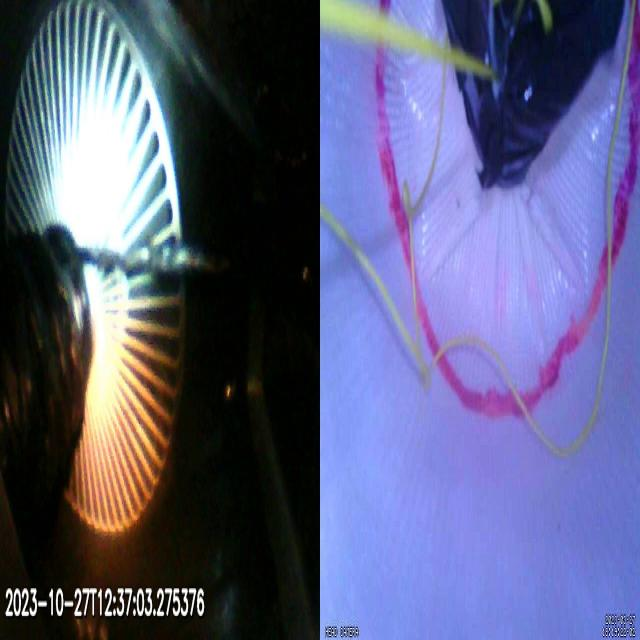red-circle: (374, 0, 640, 416)
